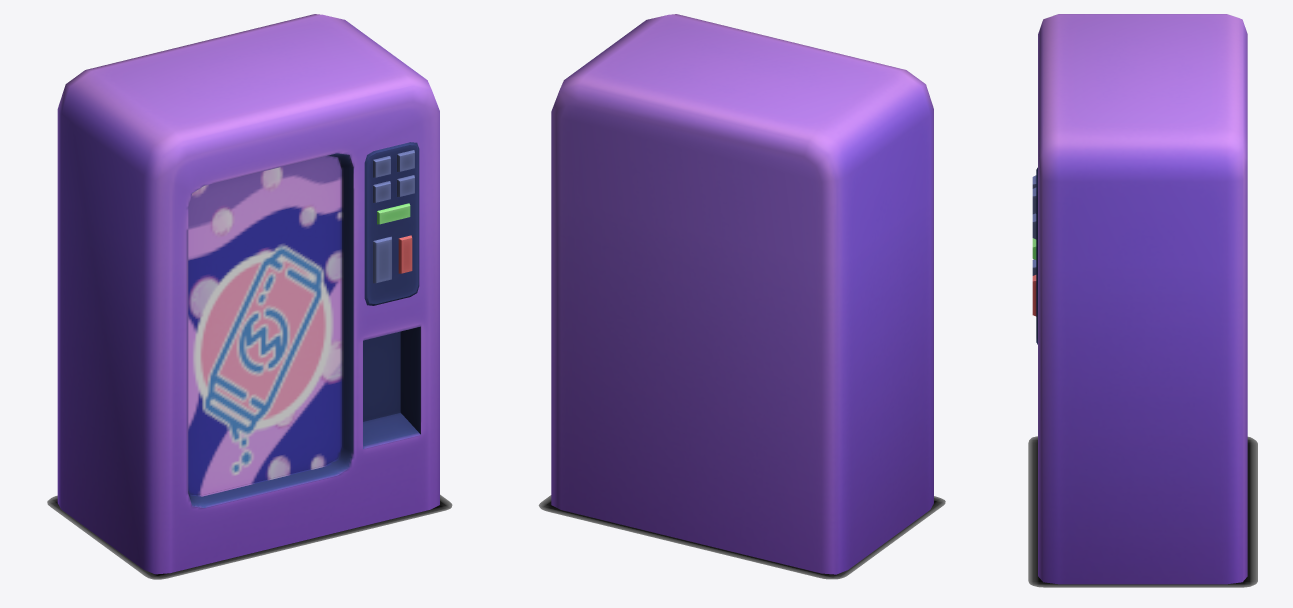
File: Mesh_Item_01_Slotmachine.FBX
3 views of the same model, side by side, from view 1: azimuth 30°, elevation 25°; view 2: azimuth 150°, elevation 25°; view 3: azimuth 270°, elevation 25° (orthographic). The views are drawn at different scales.
Parts seen in each view (by area): view 1: Mesh_Item_01_Slotmachine, Mesh_Shadow_01_Slotmachine; view 2: Mesh_Item_01_Slotmachine, Mesh_Shadow_01_Slotmachine; view 3: Mesh_Item_01_Slotmachine, Mesh_Shadow_01_Slotmachine.
Part boxes in pixels (bbox=[...]): Mesh_Item_01_Slotmachine: bbox=[57, 14, 439, 574]; Mesh_Shadow_01_Slotmachine: bbox=[47, 494, 452, 579]; Mesh_Item_01_Slotmachine: bbox=[551, 14, 933, 574]; Mesh_Shadow_01_Slotmachine: bbox=[538, 495, 945, 579]; Mesh_Item_01_Slotmachine: bbox=[1032, 14, 1247, 584]; Mesh_Shadow_01_Slotmachine: bbox=[1028, 436, 1257, 587].
Bounding box in the file's own units: 1.51 × 1.87 × 1.05.
2 materials, 2 textured.
